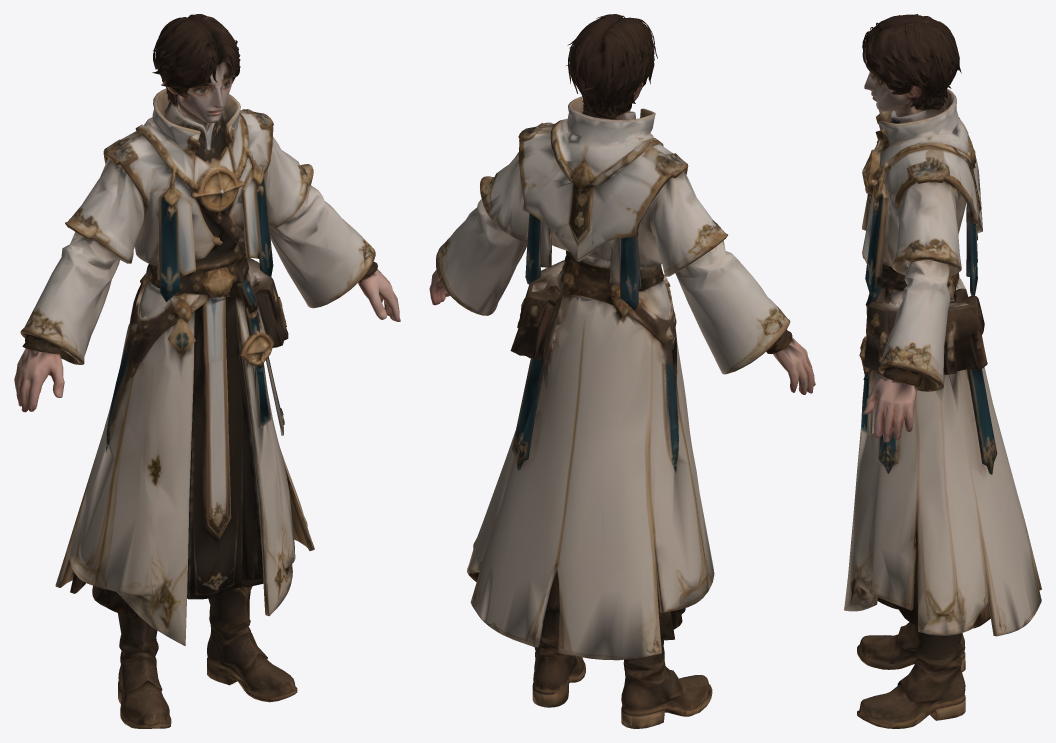
The model's file is cleric.glb.
3 renders of one model, left to right at view 1: azimuth 30°, elevation 25°; view 2: azimuth 150°, elevation 25°; view 3: azimuth 270°, elevation 25°, orthographic.
Visible parts, largest first — view 1: material; view 2: material; view 3: material.
Boxes of the visible parts, x1,y1,x2,y2 form: material: (14,14,400,728); material: (429,14,815,728); material: (844,14,1041,728).
Size of the model in its own units: 1.02 by 1.76 by 0.4696.
1 material, 1 textured.
